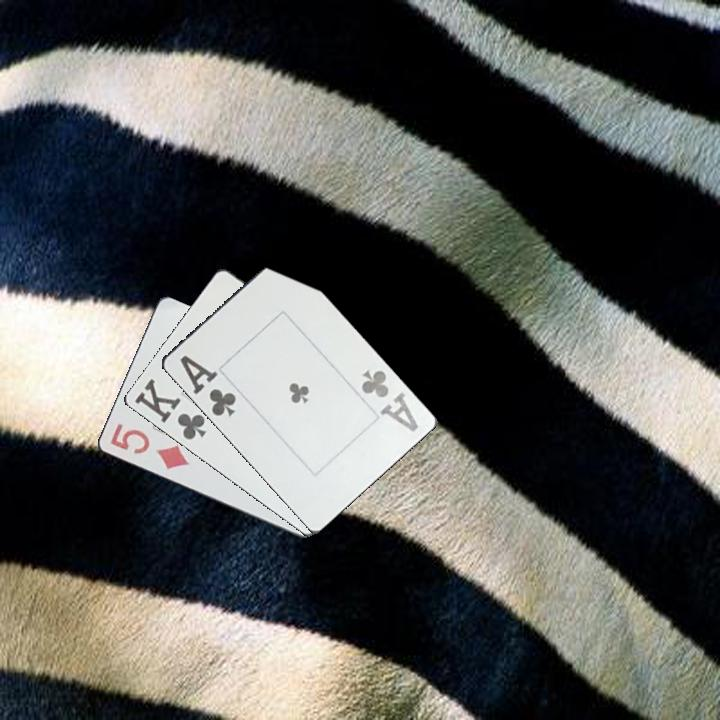5d: (106, 420, 192, 472)
Ac: (357, 365, 421, 435), (176, 352, 239, 421)
Kc: (131, 375, 209, 443)
